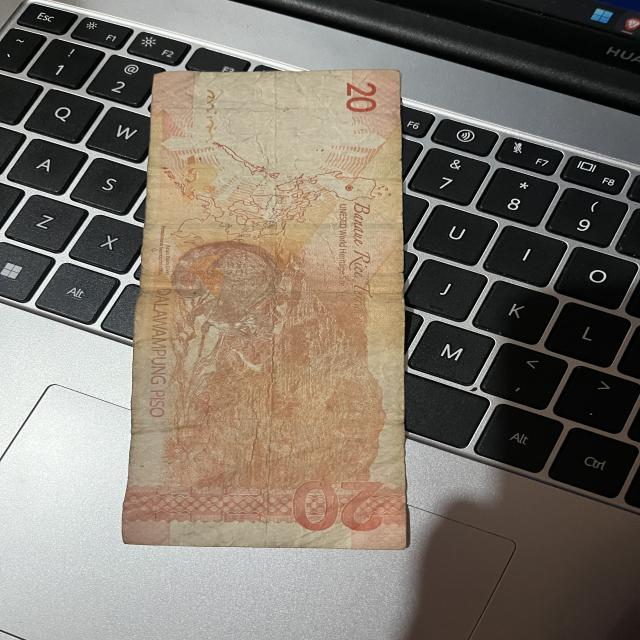20_civet: (159, 233, 286, 350)
20_civet_watermark: (168, 155, 227, 202)
